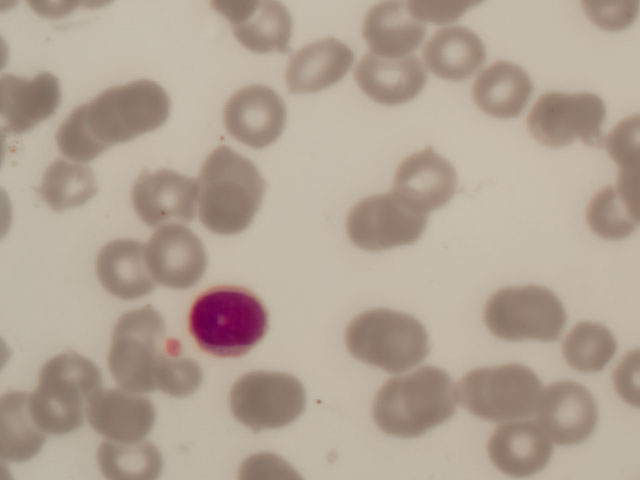Platelets: (165, 339, 189, 363)
RBC: (118, 77, 184, 145), (89, 82, 155, 150), (48, 96, 114, 164), (28, 149, 94, 217), (136, 162, 202, 230), (188, 181, 254, 249), (204, 125, 270, 193), (223, 81, 289, 149), (275, 40, 341, 108), (236, 3, 302, 71), (355, 52, 421, 120), (368, 1, 434, 69), (413, 19, 479, 87), (469, 50, 535, 118), (528, 80, 594, 148), (399, 141, 465, 209), (372, 187, 438, 255), (328, 194, 394, 262), (103, 234, 169, 302), (140, 219, 206, 287), (101, 293, 167, 361), (103, 333, 169, 401), (42, 337, 108, 405), (28, 374, 94, 442), (75, 381, 141, 449), (114, 412, 180, 480), (232, 367, 298, 435), (345, 300, 411, 368), (363, 378, 429, 446), (408, 354, 474, 422), (449, 366, 515, 434), (487, 357, 553, 425), (540, 374, 606, 442), (483, 412, 549, 480), (503, 278, 569, 346), (472, 285, 538, 353), (556, 310, 622, 378), (574, 172, 640, 240)
WBC: (183, 284, 266, 354)
